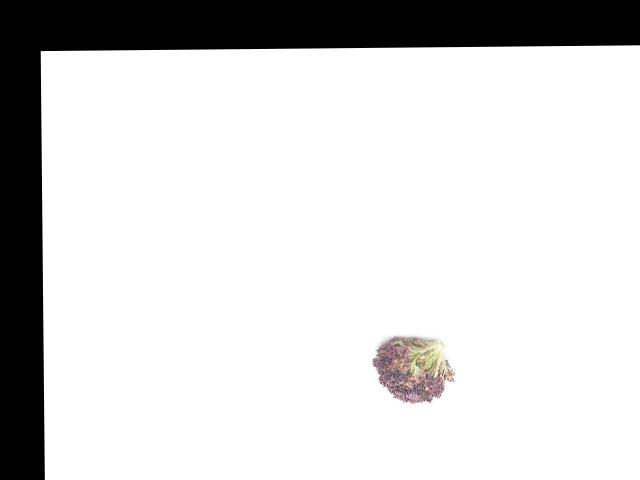lettuce: (368, 331, 450, 406)
